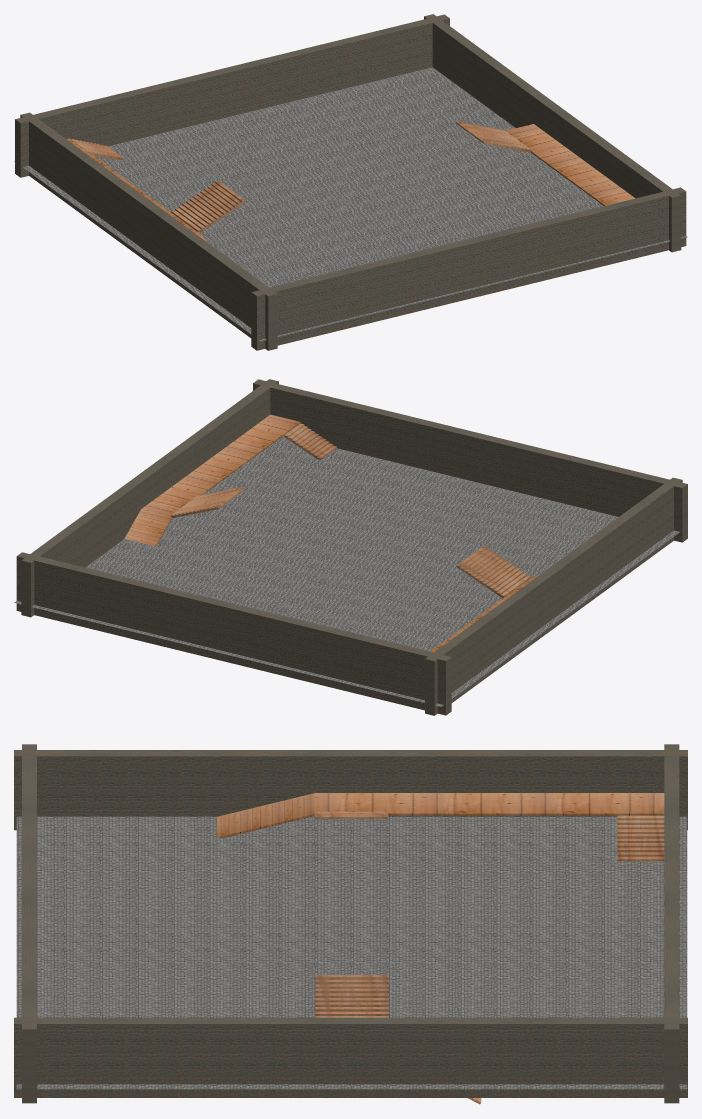
File: playerarena.fbx
The picture shows the model from 3 angles, top to bottom: view 1: azimuth 30°, elevation 25°; view 2: azimuth 150°, elevation 25°; view 3: azimuth 270°, elevation 25°; orthographic projection. The views are drawn at different scales.
Visible parts, largest first — view 1: levelGeometry; view 2: levelGeometry; view 3: levelGeometry.
Part boxes in pixels (x1=…): levelGeometry: x1=14, y1=14, x2=687, y2=350; levelGeometry: x1=14, y1=379, x2=687, y2=715; levelGeometry: x1=14, y1=744, x2=687, y2=1104.
Bounding box in the file's own units: 4020 × 4020 × 572.
4 materials, 4 textured.
